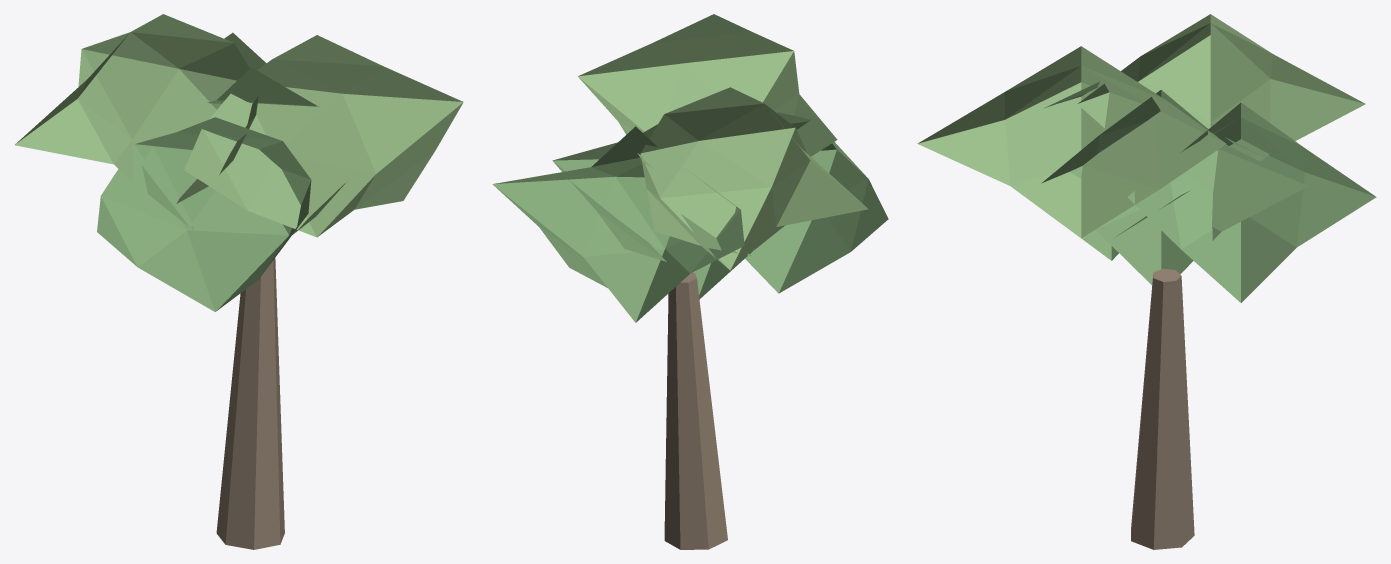
Rendered from broadleaf_v28.glb.
3 views of the same model, side by side, from view 1: azimuth 30°, elevation 25°; view 2: azimuth 150°, elevation 25°; view 3: azimuth 270°, elevation 25° (orthographic). The views are drawn at different scales.
Visible parts, largest first — view 1: lod0; view 2: lod0; view 3: lod0.
Part boxes in pixels (x1,y1,x2,y2): lod0: (14,14,463,549); lod0: (492,14,888,549); lod0: (917,14,1376,549).
Size of what is drawn, in the model's own units: 4.59 by 5.96 by 4.95.
